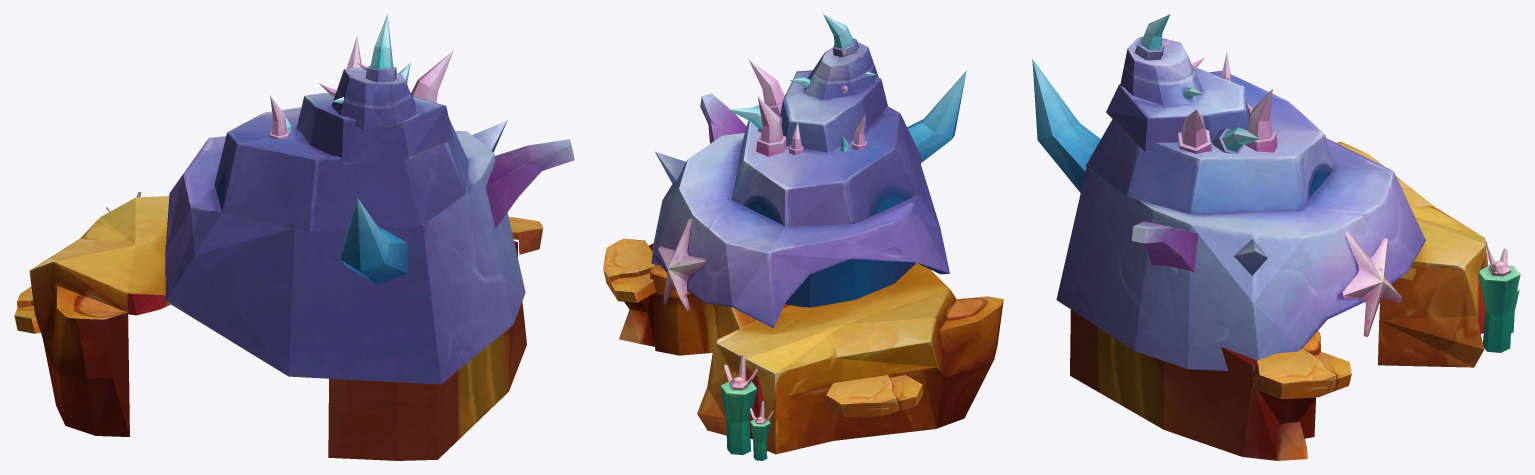
Rendered from shatan_dahailuo.fbx.
3 renders of one model, left to right at view 1: azimuth 30°, elevation 25°; view 2: azimuth 150°, elevation 25°; view 3: azimuth 270°, elevation 25°, orthographic. The views are drawn at different scales.
Visible parts, largest first — view 1: shatan_dahailuo; view 2: shatan_dahailuo; view 3: shatan_dahailuo.
Boxes of the visible parts, <box> form: shatan_dahailuo: <box>14,14,574,460</box>; shatan_dahailuo: <box>603,14,1003,460</box>; shatan_dahailuo: <box>1032,14,1520,460</box>.
Bounding box in the file's own units: 11.65 × 9.24 × 11.18.
